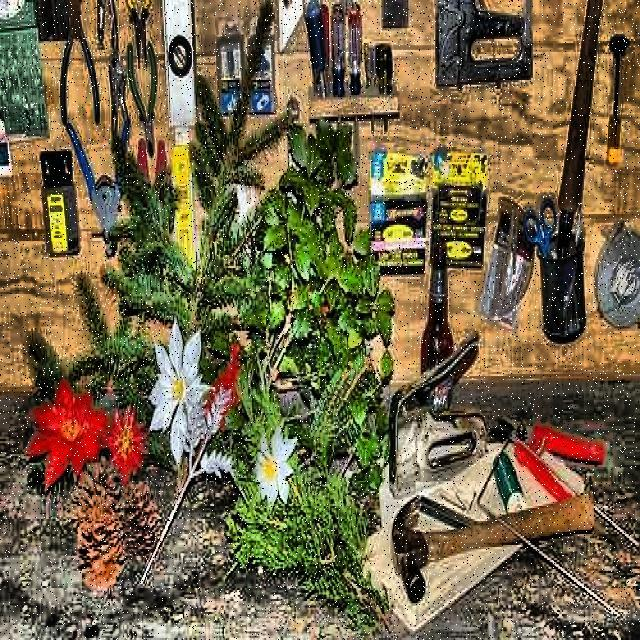hammer: (389, 494, 596, 604)
